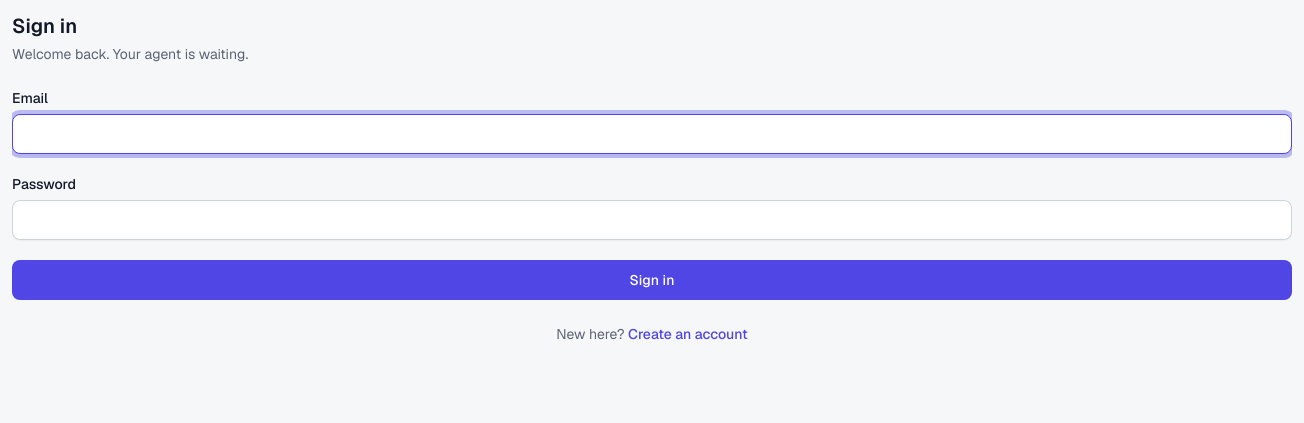
Scenario: LoginForm › shows the server's generic message and clears the password on failure
Step 1. Type "ada@example.com" into the field labelled "Email" → [652, 134], box [12,114,1292,154]
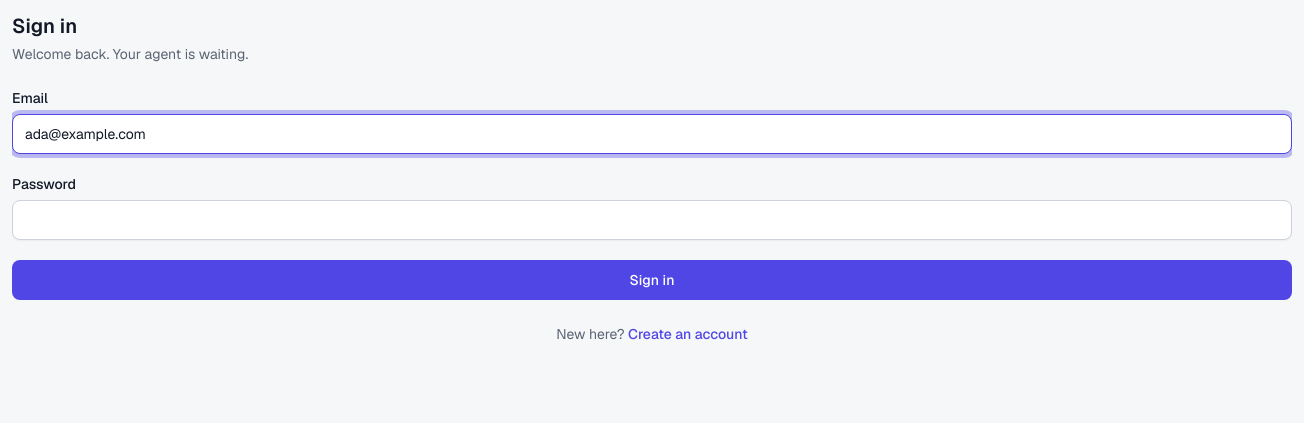
Step 2. Type "wrong-password-1" into the password field labelled "Password" → [652, 220], box [12,200,1292,240]
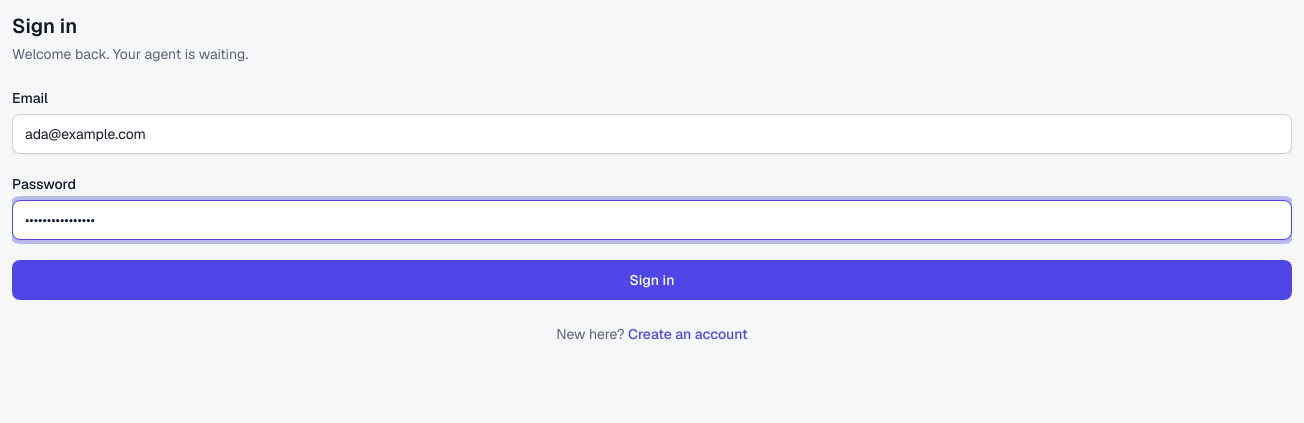
Step 3. Click the button "Sign in" → [652, 280], box [12,260,1292,300]
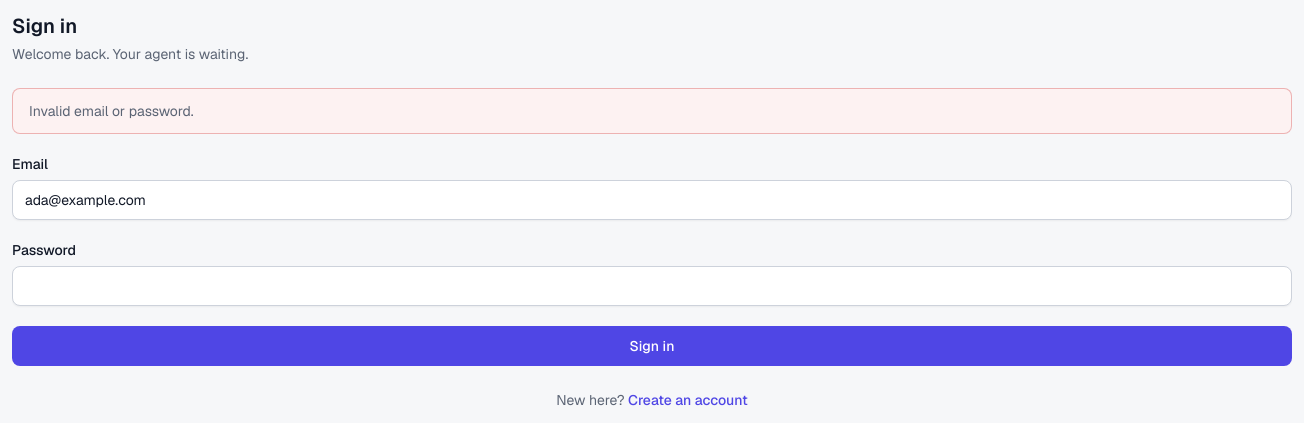
Check: the text "Invalid email or password." is shown, box [29,102,194,120]
Check: the password field labelled "Password" is empty, box [12,266,1292,306]
